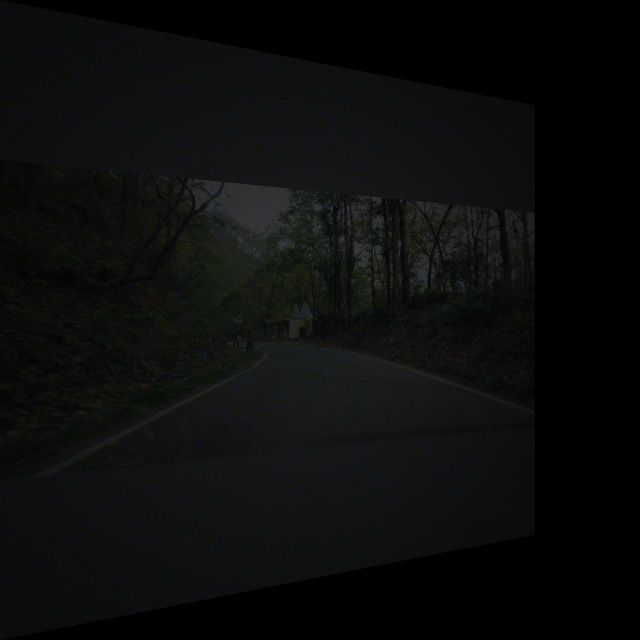Narrow_Bridge: (230, 307, 247, 325)
